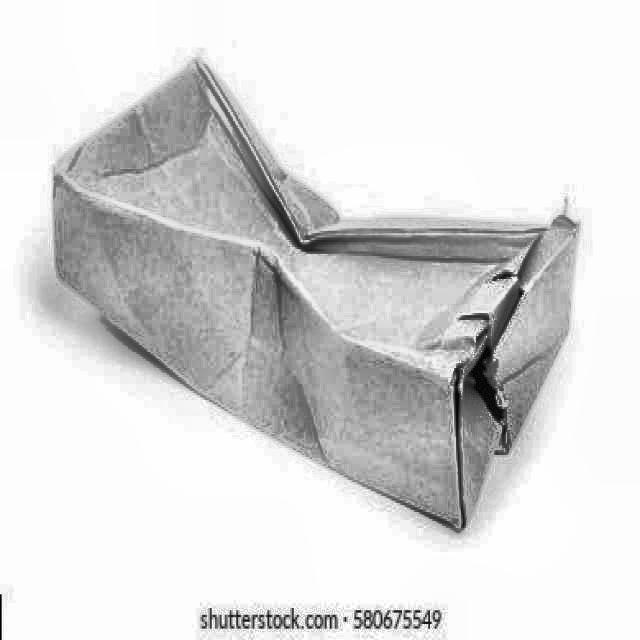box: (23, 53, 608, 535)
hole: (458, 328, 506, 458)
